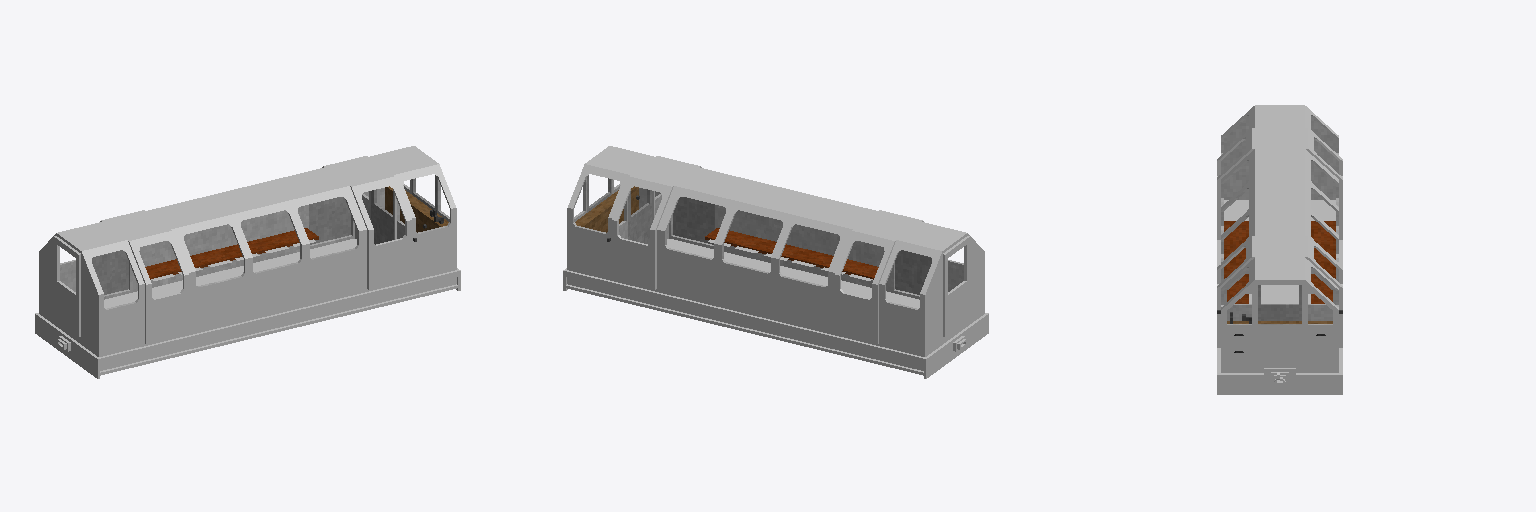
3 views of the same model, side by side, from view 1: azimuth 30°, elevation 25°; view 2: azimuth 150°, elevation 25°; view 3: azimuth 270°, elevation 25° (orthographic).
Parts seen in each view (by area): view 1: FRAME_0_body, FRAME_0_body.001, DOOR_2_EXTERNAL_NOTOUCH_CG_leftdoor_TL_-1_X, DOOR_1_EXTERNAL_NOTOUCH_CG_leftdoor_TL_1_X, FRAME_2, FRAME_3, FRAME_1, DOOR_5_CONNECTING_TOGGLE_HIDE, FRAME_end2, DOOR_4_EXTERNAL_NOTOUCH_CG_rightdoor_TL_-1_X, DOOR_3_EXTERNAL_NOTOUCH_CG_rightdoor_TL_1_X, DOOR_7; view 2: FRAME_0_body, FRAME_0_body.001, DOOR_4_EXTERNAL_NOTOUCH_CG_rightdoor_TL_-1_X, DOOR_3_EXTERNAL_NOTOUCH_CG_rightdoor_TL_1_X, FRAME_2, FRAME_3, FRAME_1, DOOR_5_CONNECTING_TOGGLE_HIDE, FRAME_end2, DOOR_2_EXTERNAL_NOTOUCH_CG_leftdoor_TL_-1_X, DOOR_1_EXTERNAL_NOTOUCH_CG_leftdoor_TL_1_X, DOOR_7; view 3: FRAME_0_body, FRAME_0_body.001, FRAME_end1, DOOR_6_CONNECTING_NOTOUCH, DOOR_7, DOOR_3_EXTERNAL_NOTOUCH_CG_rightdoor_TL_1_X, DOOR_1_EXTERNAL_NOTOUCH_CG_leftdoor_TL_1_X, DOOR_4_EXTERNAL_NOTOUCH_CG_rightdoor_TL_-1_X, DOOR_2_EXTERNAL_NOTOUCH_CG_leftdoor_TL_-1_X, FRAME_2, FRAME_1.
Part boxes in pixels (x1,y1,x2,y2): FRAME_0_body: (39,146,456,356); FRAME_0_body.001: (60,176,450,309); DOOR_2_EXTERNAL_NOTOUCH_CG_leftdoor_TL_-1_X: (350,175,411,289); DOOR_1_EXTERNAL_NOTOUCH_CG_leftdoor_TL_1_X: (128,230,189,343); FRAME_2: (169,259,330,343); FRAME_3: (272,239,434,318); FRAME_1: (104,284,227,369); DOOR_5_CONNECTING_TOGGLE_HIDE: (54,236,80,336); FRAME_end2: (35,313,122,378); DOOR_4_EXTERNAL_NOTOUCH_CG_rightdoor_TL_-1_X: (309,156,367,244); DOOR_3_EXTERNAL_NOTOUCH_CG_rightdoor_TL_1_X: (92,210,144,294); DOOR_7: (371,189,393,244); FRAME_0_body: (567,146,984,356); FRAME_0_body.001: (573,176,963,309); DOOR_4_EXTERNAL_NOTOUCH_CG_rightdoor_TL_-1_X: (612,175,673,289); DOOR_3_EXTERNAL_NOTOUCH_CG_rightdoor_TL_1_X: (834,230,895,343); FRAME_2: (693,259,854,343); FRAME_3: (589,239,751,318); FRAME_1: (796,284,919,369); DOOR_5_CONNECTING_TOGGLE_HIDE: (943,236,969,336); FRAME_end2: (901,313,988,378); DOOR_2_EXTERNAL_NOTOUCH_CG_leftdoor_TL_-1_X: (656,156,714,244); DOOR_1_EXTERNAL_NOTOUCH_CG_leftdoor_TL_1_X: (879,210,931,294); DOOR_7: (628,189,651,244); FRAME_0_body: (1221,105,1338,372); FRAME_0_body.001: (1221,115,1338,324); FRAME_end1: (1217,362,1342,394); DOOR_6_CONNECTING_NOTOUCH: (1255,283,1304,364); DOOR_7: (1258,285,1301,320); DOOR_3_EXTERNAL_NOTOUCH_CG_rightdoor_TL_1_X: (1305,128,1342,239); DOOR_1_EXTERNAL_NOTOUCH_CG_leftdoor_TL_1_X: (1217,128,1254,239); DOOR_4_EXTERNAL_NOTOUCH_CG_rightdoor_TL_-1_X: (1305,236,1342,347); DOOR_2_EXTERNAL_NOTOUCH_CG_leftdoor_TL_-1_X: (1217,236,1254,347); FRAME_2: (1217,261,1342,303); FRAME_1: (1217,210,1342,260).
Bounding box in the file's own units: 9 × 2.62 × 2.5.
Materials: 6 (2 with a texture image).